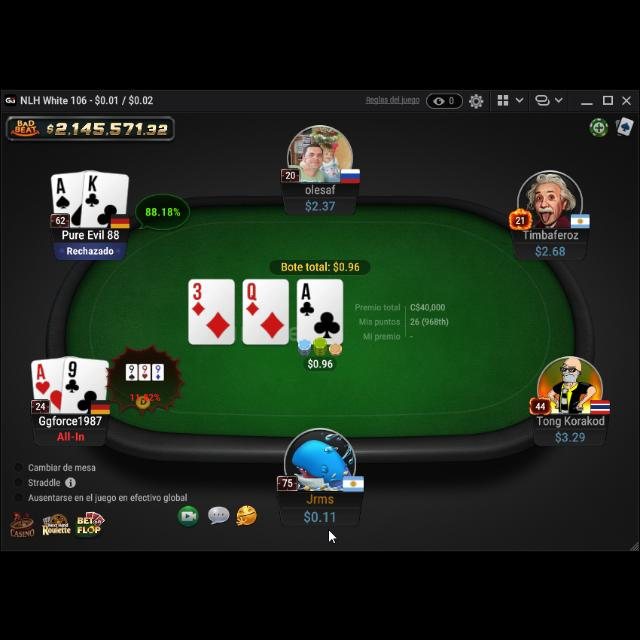3d: (190, 279, 206, 315)
9c: (63, 356, 81, 392)
Ac: (298, 278, 316, 316)
Ah: (34, 358, 51, 394)
As: (54, 174, 72, 208)
Kc: (85, 172, 102, 206)
Qd: (245, 278, 261, 316)
all_in_symbol: (56, 426, 85, 439)
bet_text: (306, 354, 334, 368)
pot_text: (280, 258, 362, 272)
stack_text: (66, 240, 114, 256), (302, 504, 336, 522), (304, 194, 336, 210), (554, 426, 586, 440), (534, 240, 566, 254)
